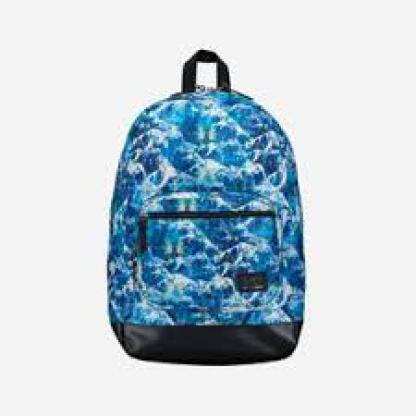morral: (92, 32, 320, 376)
